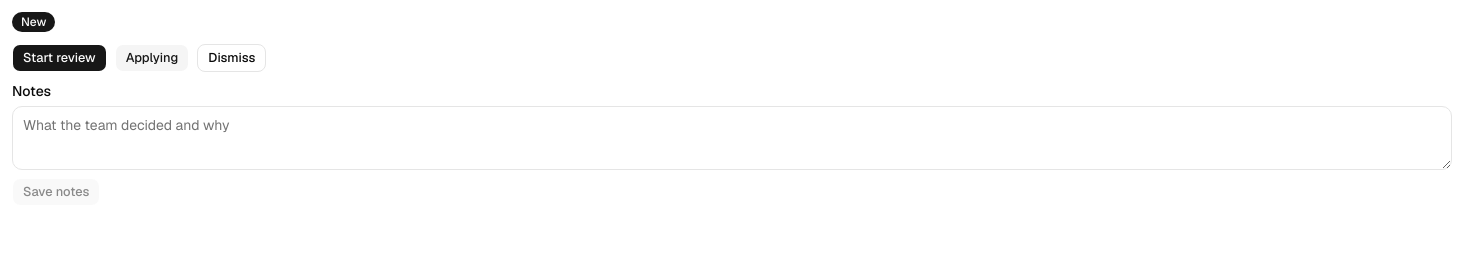
Test: MatchStatusControl › shows the API's validation message when a change is refused
Click the button "Applying".
click(152, 58)  # box [115,44,189,72]
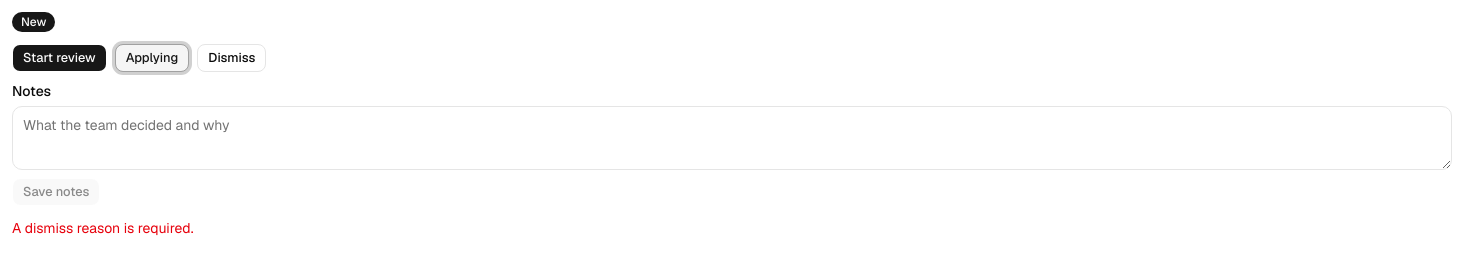
Expected: the message reads "A dismiss reason is required.", [12,219,194,237]
